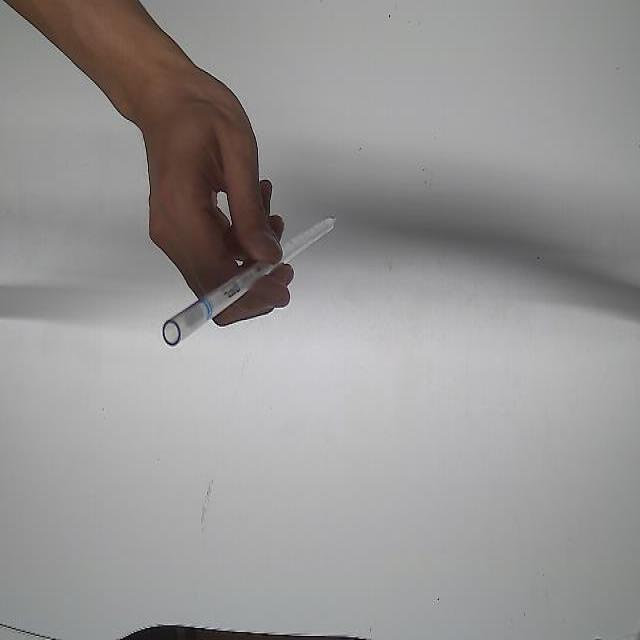Serelogical Pipet 5 mL: (162, 212, 340, 346)
